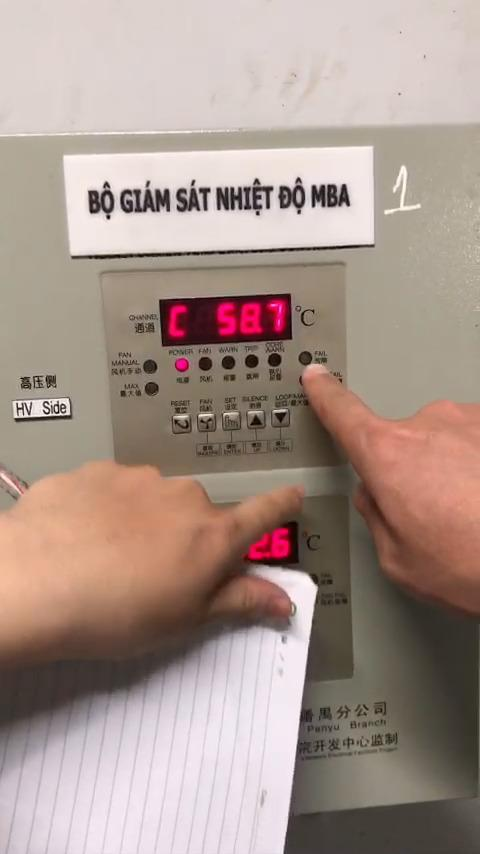led: (297, 350, 314, 367), (244, 353, 261, 370), (174, 358, 192, 374), (197, 356, 215, 371), (268, 353, 284, 369), (143, 358, 159, 374), (145, 381, 161, 397), (221, 355, 237, 370)
